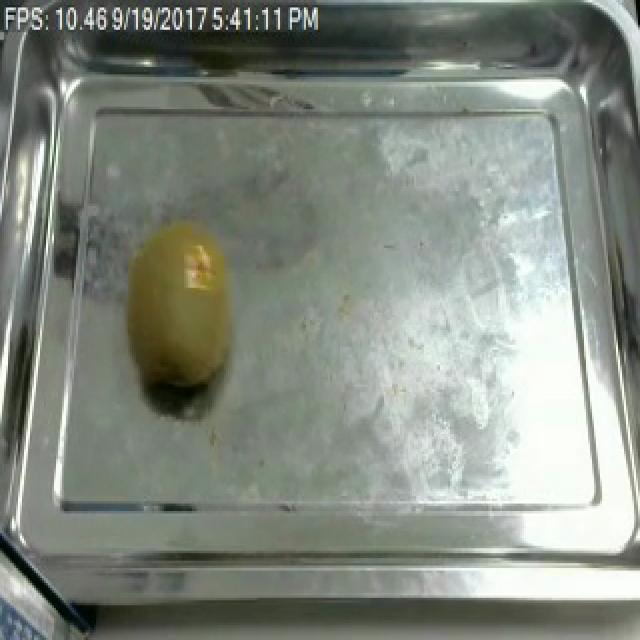Fruit: (112, 208, 246, 400)
